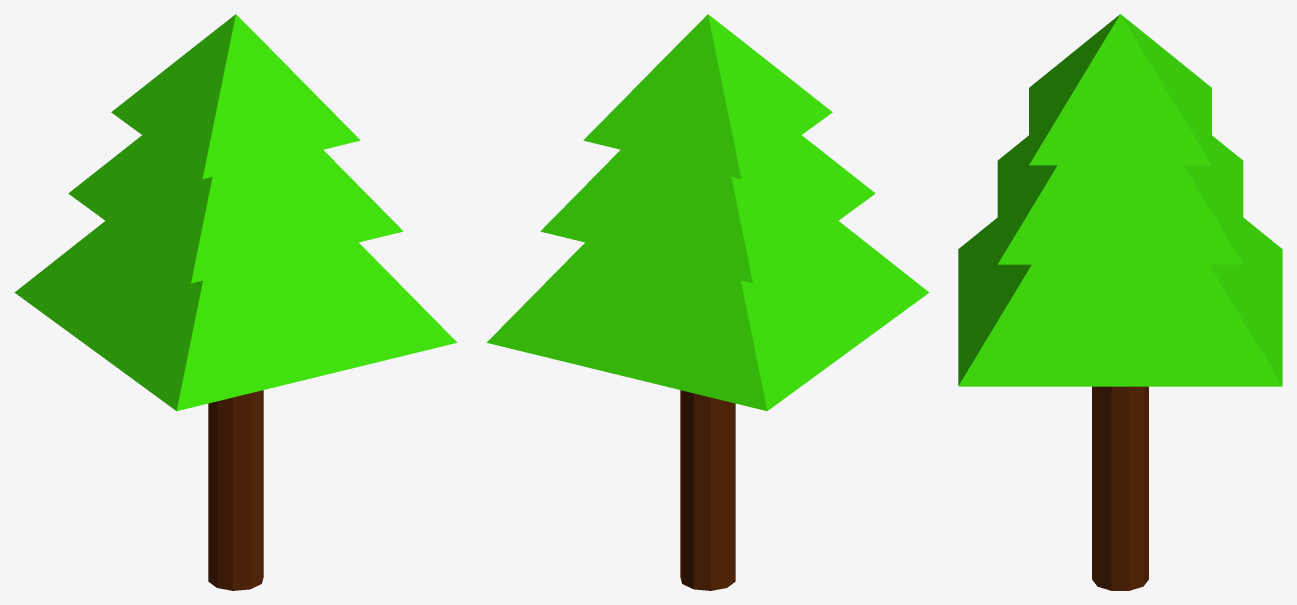
Rendered from tree.fbx.
The picture shows the model from 3 angles, left to right: view 1: azimuth 30°, elevation 25°; view 2: azimuth 150°, elevation 25°; view 3: azimuth 270°, elevation 25°; orthographic projection.
Parts seen in each view (by area): view 1: Cylinder; view 2: Cylinder; view 3: Cylinder.
Part boxes in pixels (x1,y1,x2,y2): Cylinder: (14,14,457,590); Cylinder: (486,14,929,590); Cylinder: (958,14,1282,590).
Bounding box in the file's own units: 1143 × 2197 × 1143.
